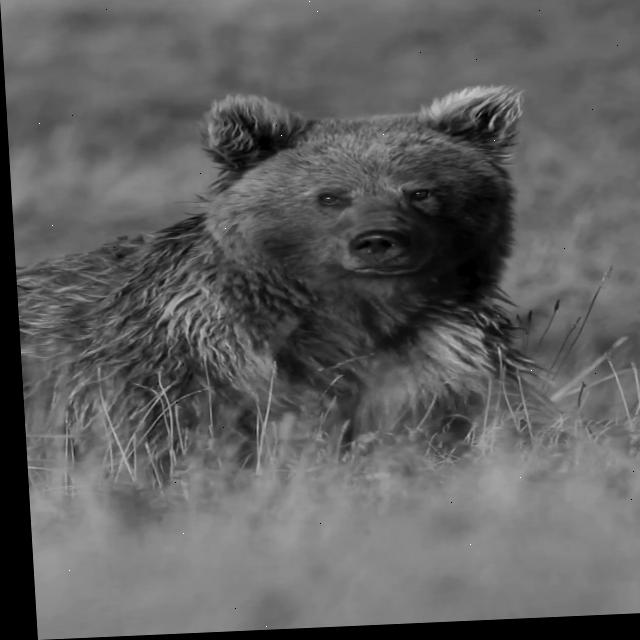Bear: (6, 79, 567, 503)
